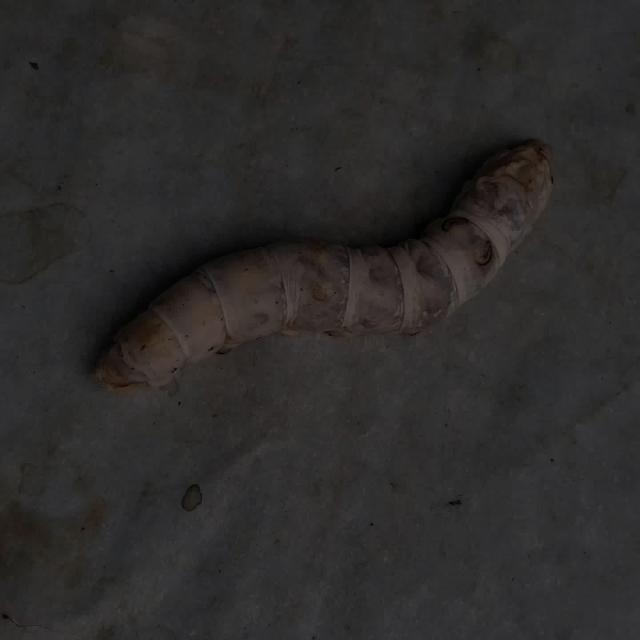Grasserie: (64, 101, 577, 457)
